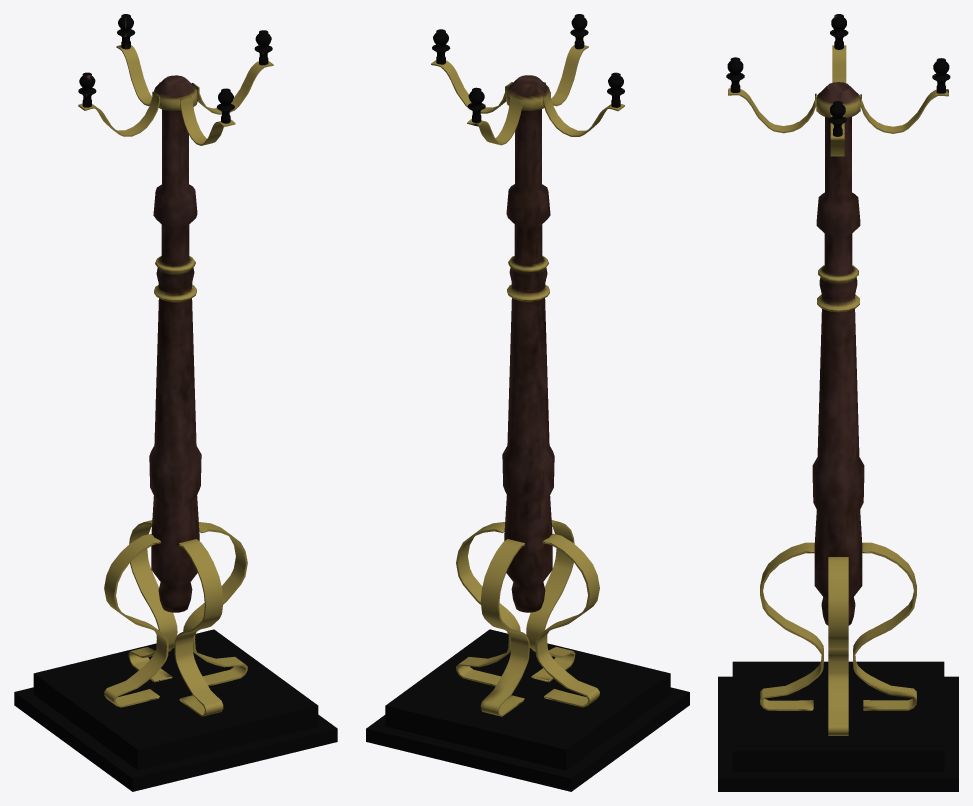
File: candelabra 1.fbx
3 renders of one model, left to right at view 1: azimuth 30°, elevation 25°; view 2: azimuth 150°, elevation 25°; view 3: azimuth 270°, elevation 25°, orthographic.
Parts seen in each view (by area): view 1: polySurface14; view 2: polySurface14; view 3: polySurface14.
Boxes of the visible parts, x1,y1,x2,y2 form: polySurface14: [14, 14, 337, 791]; polySurface14: [366, 14, 689, 791]; polySurface14: [718, 14, 958, 791].
Size of the model in its own units: 56.8 by 177 by 56.8.
